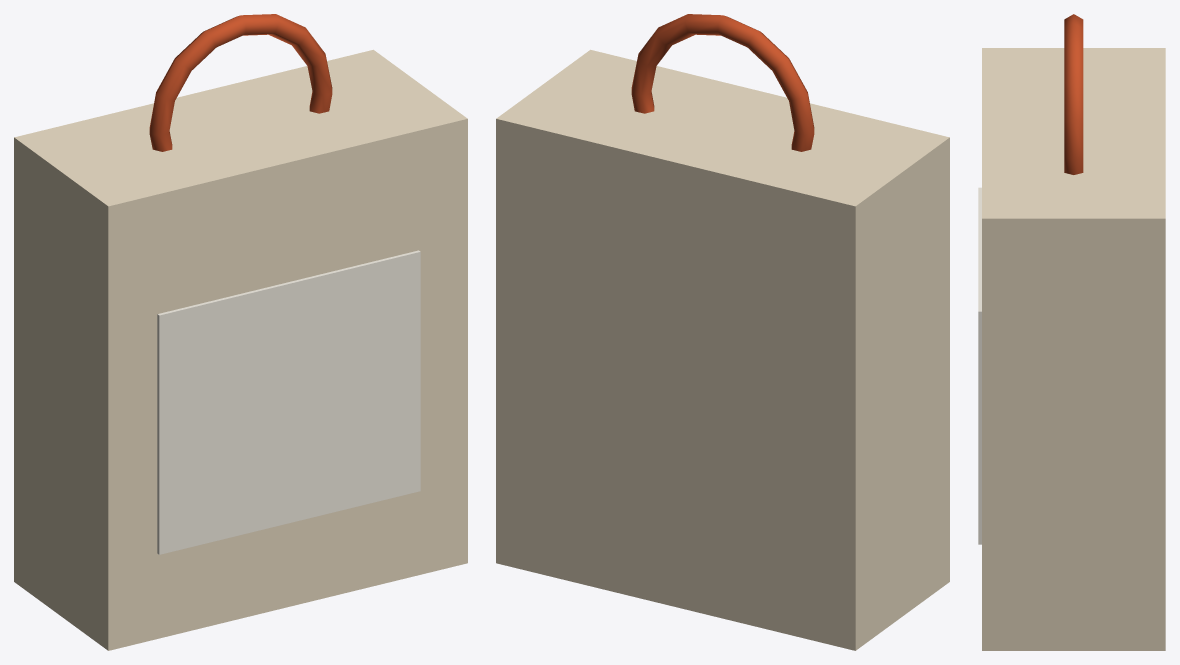
Rendered from product-bag.glb.
3 renders of one model, left to right at view 1: azimuth 30°, elevation 25°; view 2: azimuth 150°, elevation 25°; view 3: azimuth 270°, elevation 25°, orthographic. The views are drawn at different scales.
Visible parts, largest first — view 1: Bag, Label, Handle; view 2: Bag, Handle; view 3: Bag, Handle, Label.
Part boxes in pixels (x1,y1,x2,y2): Bag: (14, 49, 467, 650); Label: (157, 250, 420, 554); Handle: (149, 14, 332, 151); Bag: (496, 49, 949, 650); Handle: (631, 14, 814, 151); Bag: (982, 48, 1165, 650); Handle: (1064, 14, 1083, 174); Label: (978, 187, 981, 544).
Size of the model in its own units: 0.22 by 0.326 by 0.102.
